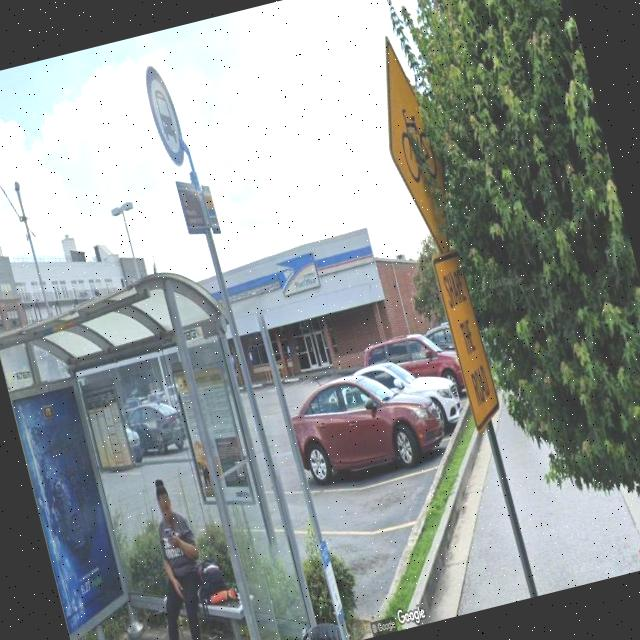seating: (162, 573, 270, 640)
shelter: (0, 264, 312, 640)
